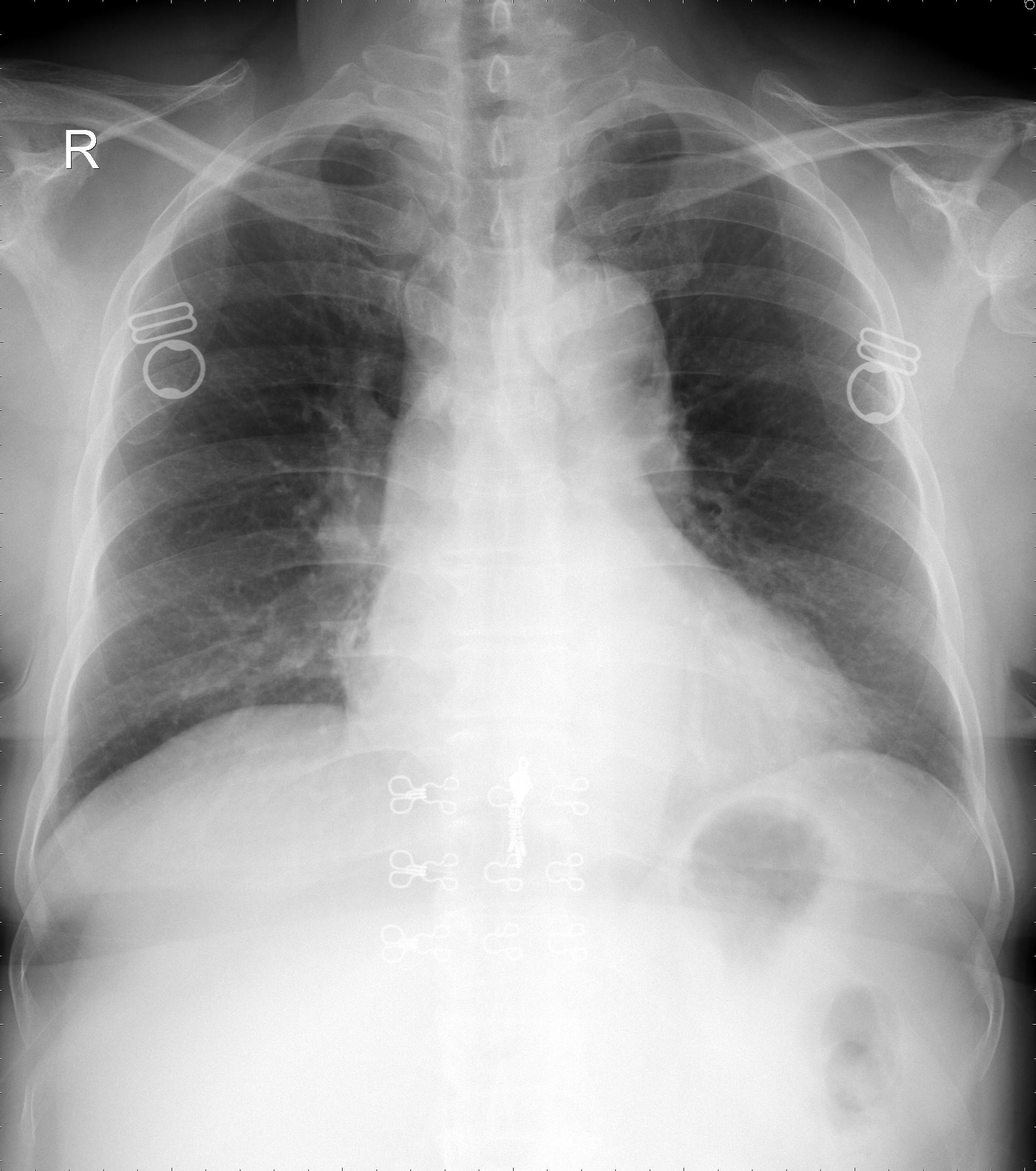Aortic enlargement: (488, 261, 672, 446)
Cardiomegaly: (351, 609, 885, 773)
